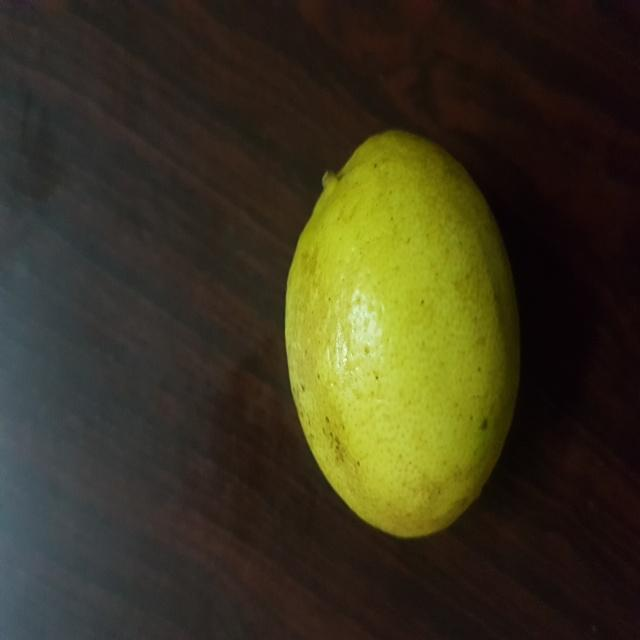lemon: (270, 114, 547, 547)
